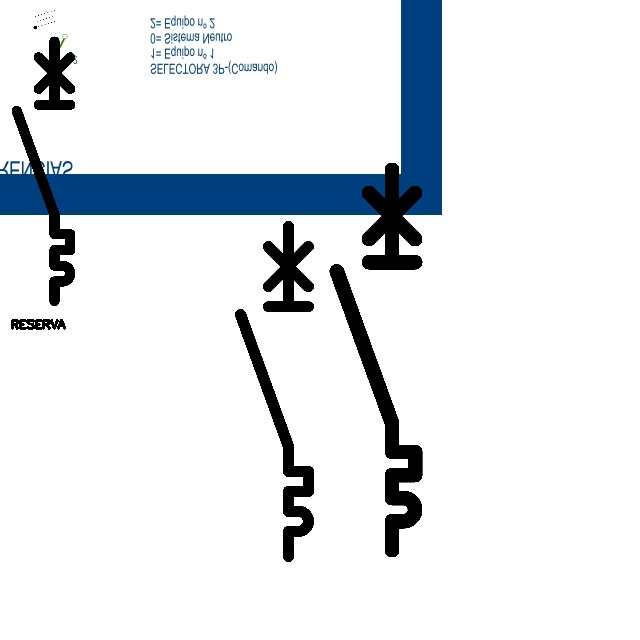interruptor_termomagnetico: (327, 160, 425, 560), (232, 218, 317, 565), (10, 34, 77, 307)
